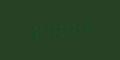four: (41, 21, 52, 40)
nine: (65, 19, 76, 38)
one: (89, 17, 100, 37)
seven: (17, 22, 28, 42)
six: (29, 22, 40, 41), (77, 18, 88, 37)
three: (53, 20, 64, 39)
